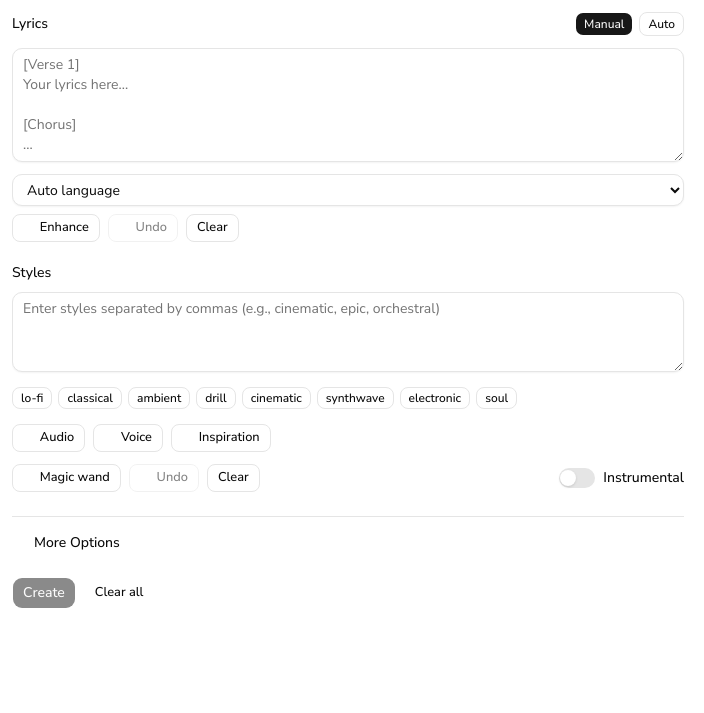
Scenario: AdvancedCreationForm › shows the enhance input and a coming-soon notice on apply
Click the button "Enhance" at (56, 228), box [12,214,100,242]
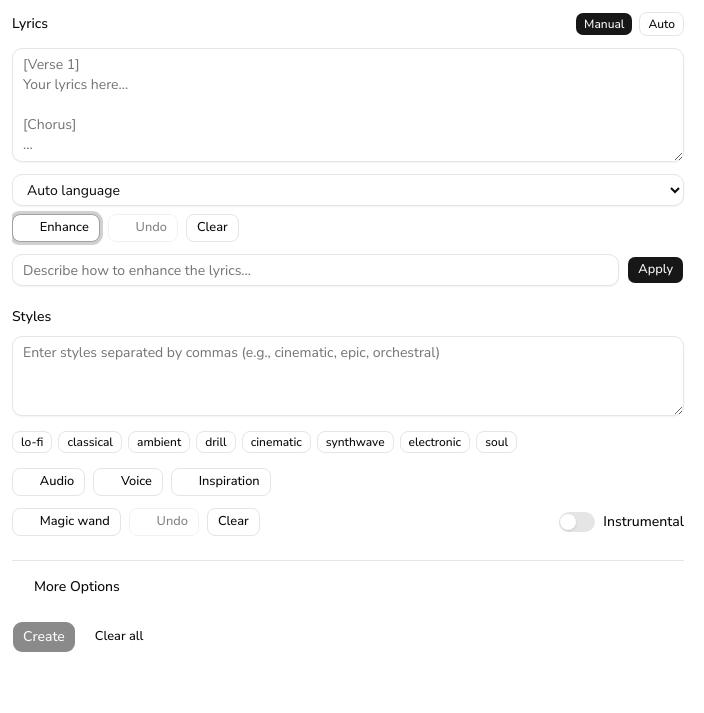
Type "make it darker" into the field named "enhancement prompt" at (316, 270), box [12,254,619,286]
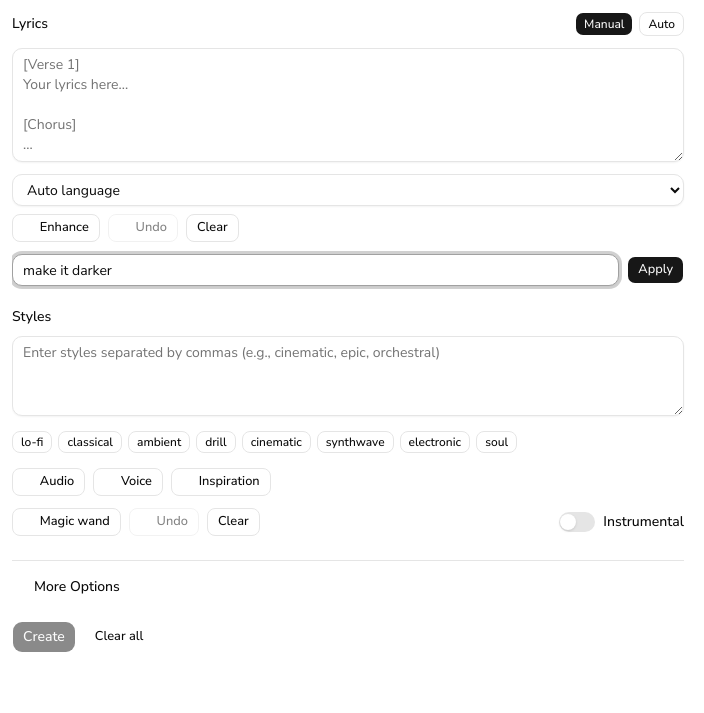
Click the button "Apply" at (656, 270), box [627,256,684,284]
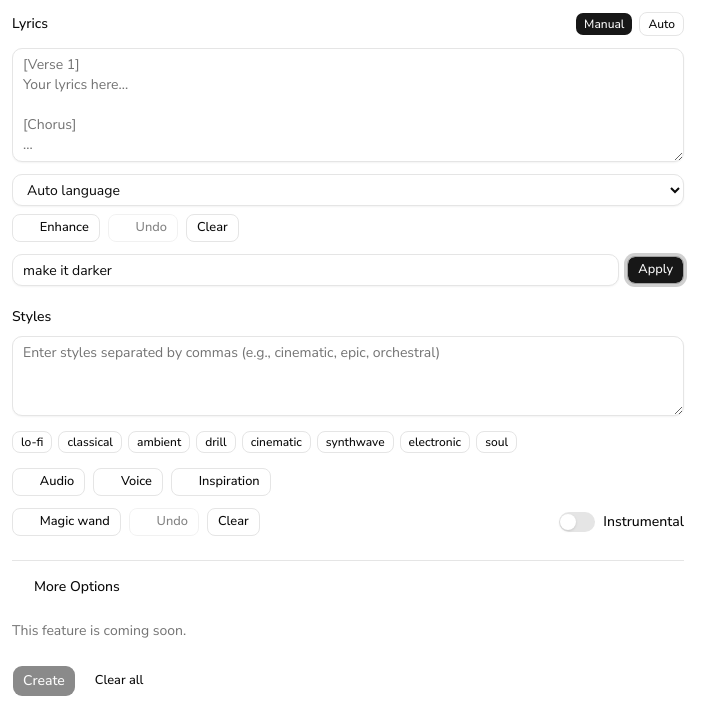
Expected: the message shows "coming soon", [12,621,186,640]
